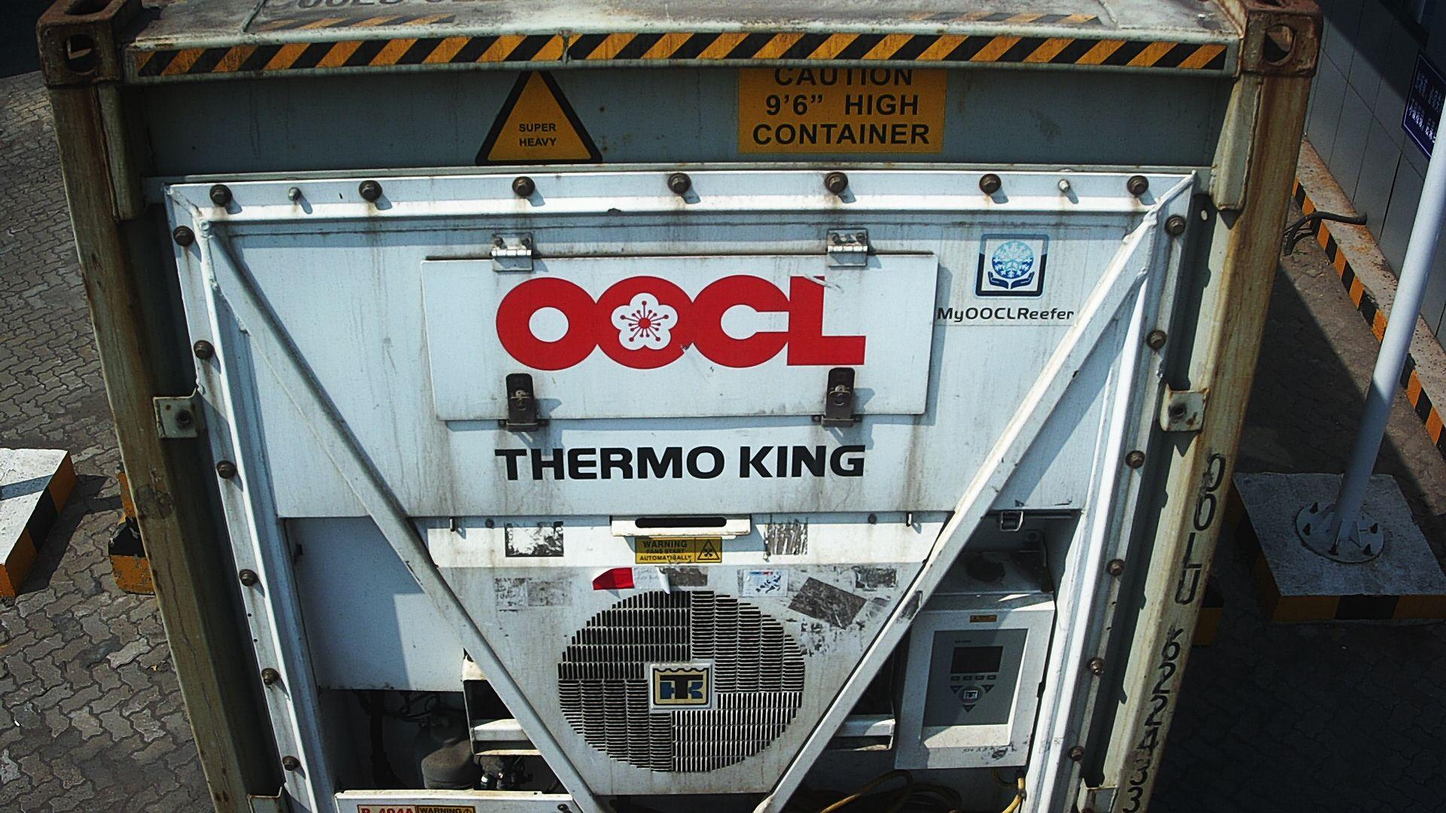container-numbers: (1112, 447, 1237, 813)
